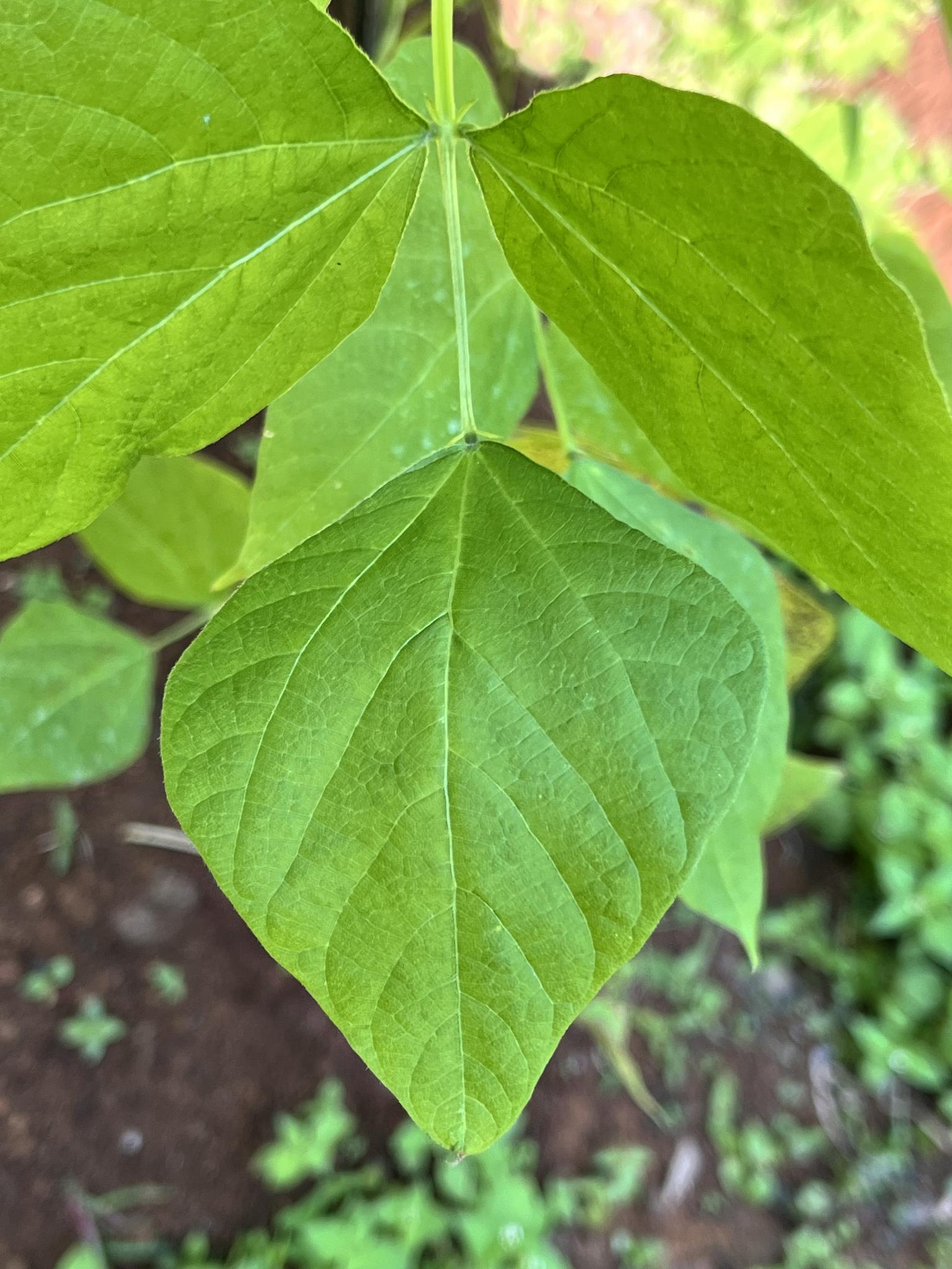sehat: (158, 435, 759, 1160)
